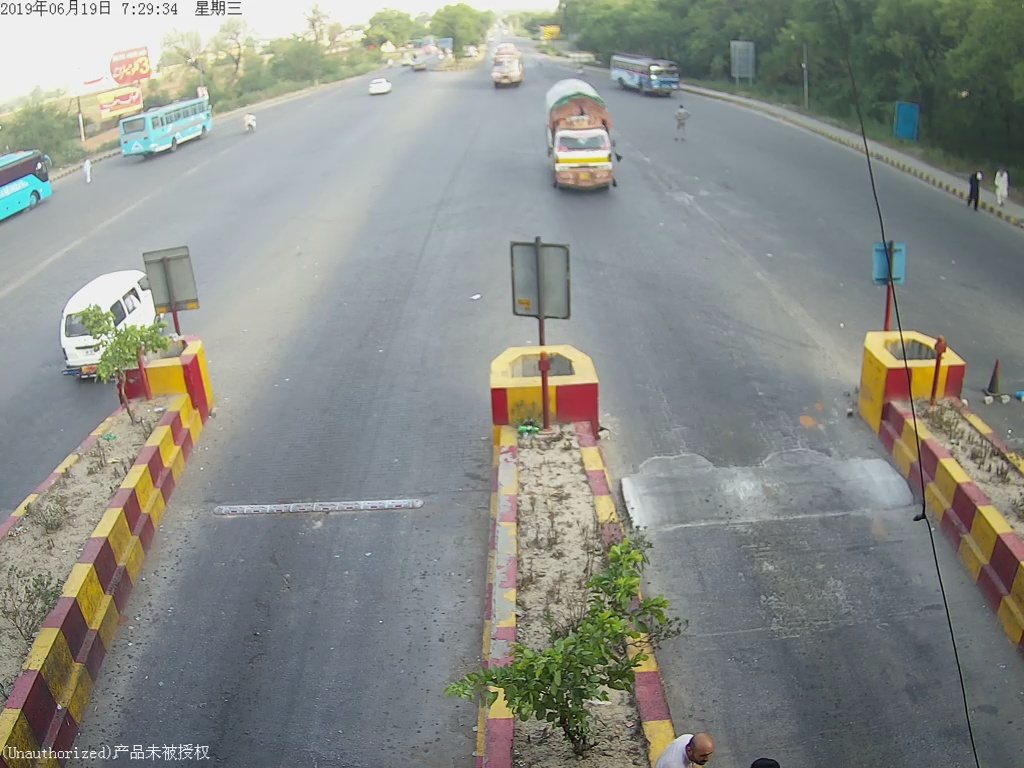Cat-3: (483, 43, 529, 95)
Cat-4: (543, 81, 631, 205)
